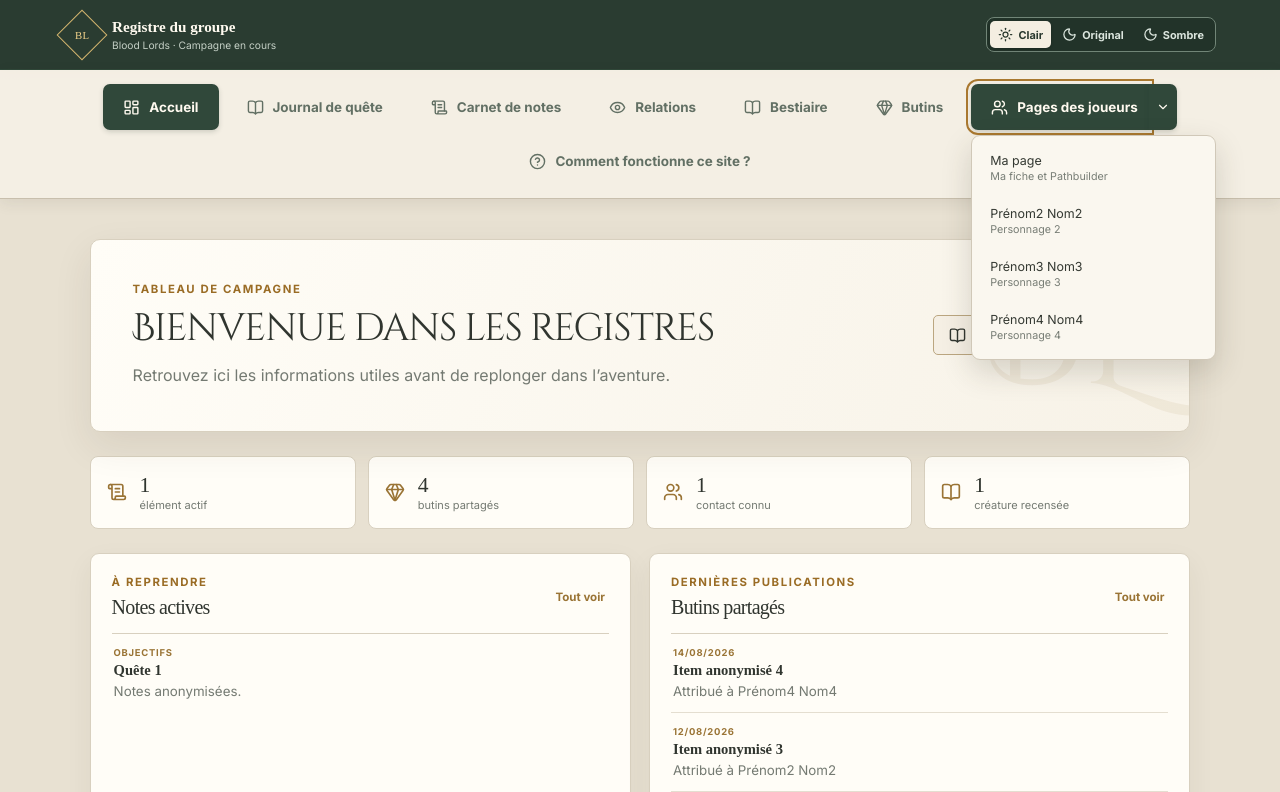
permet à un joueur de consulter les autres fiches sans Pathbuilder ni notes privées
Expected: the menu item "Ma page Ma fiche et Pathbuilder" is shown, [979,143,1208,193]
Step 1. Click the menu item "Prénom2 Nom2 Personnage 2" → [1094, 221], box [979,196,1208,246]
(page scrolled)
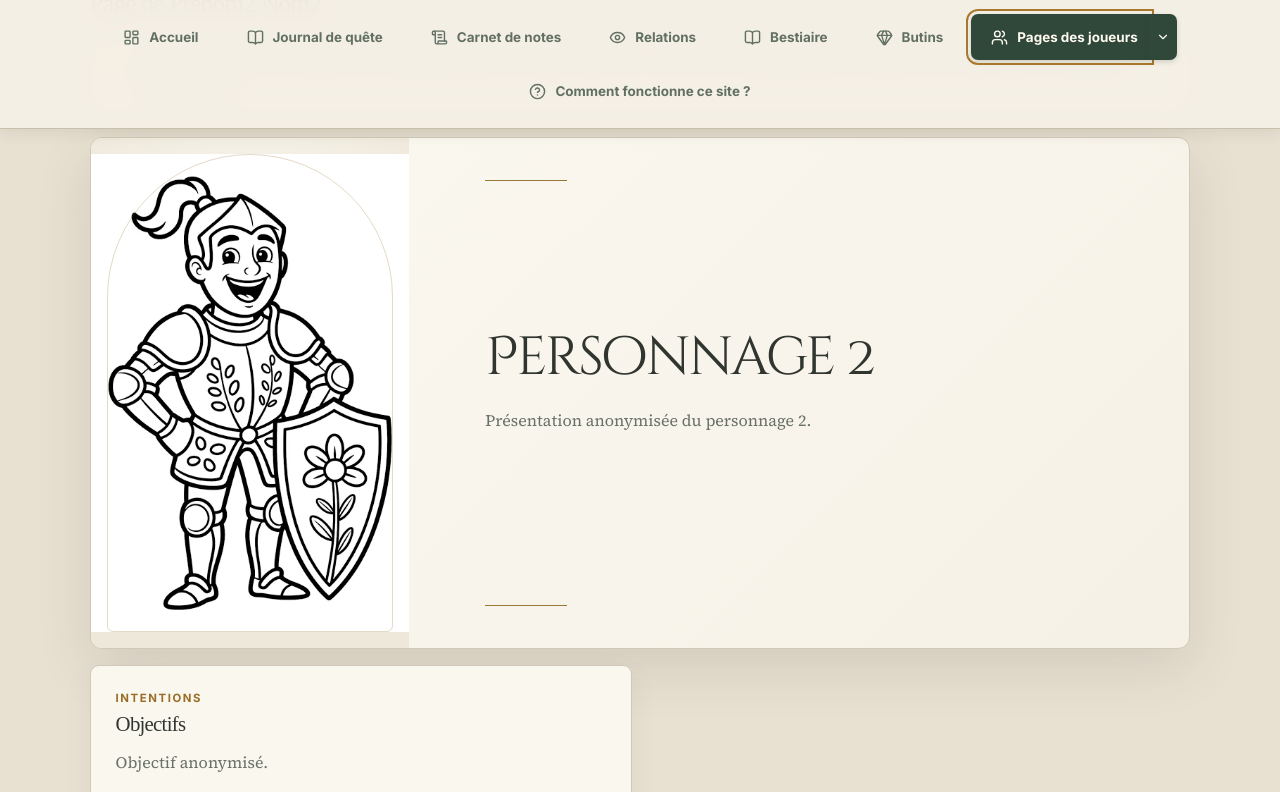
Now the element that starts with "Prénom2 Nom2" shows "Personnage 2", box [485,322,874,394]
Now the element that starts with "Prénom2 Nom2" shows "Ses notes privées et Pathbuilder restent masqués", box [133,59,1126,96]
